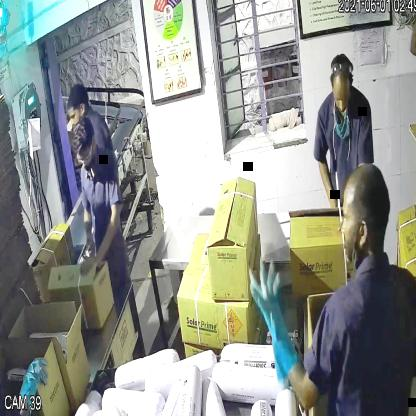goggles: (75, 144, 96, 170)
no_goggles: (329, 84, 352, 107)
